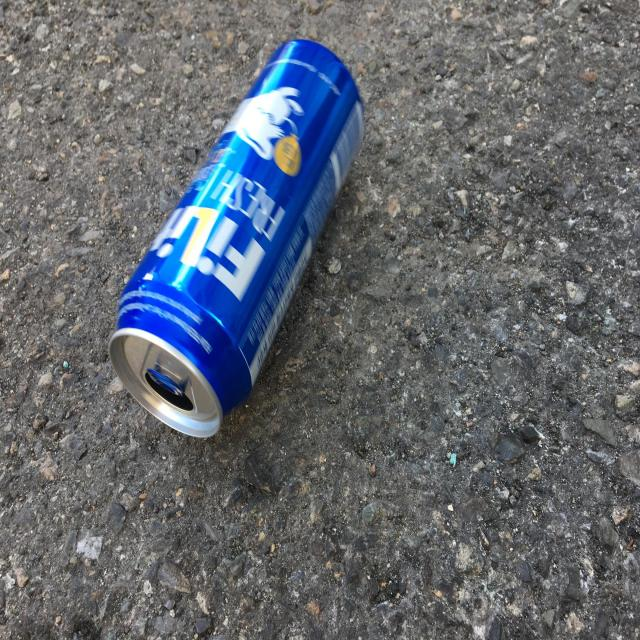can: (109, 39, 364, 437)
